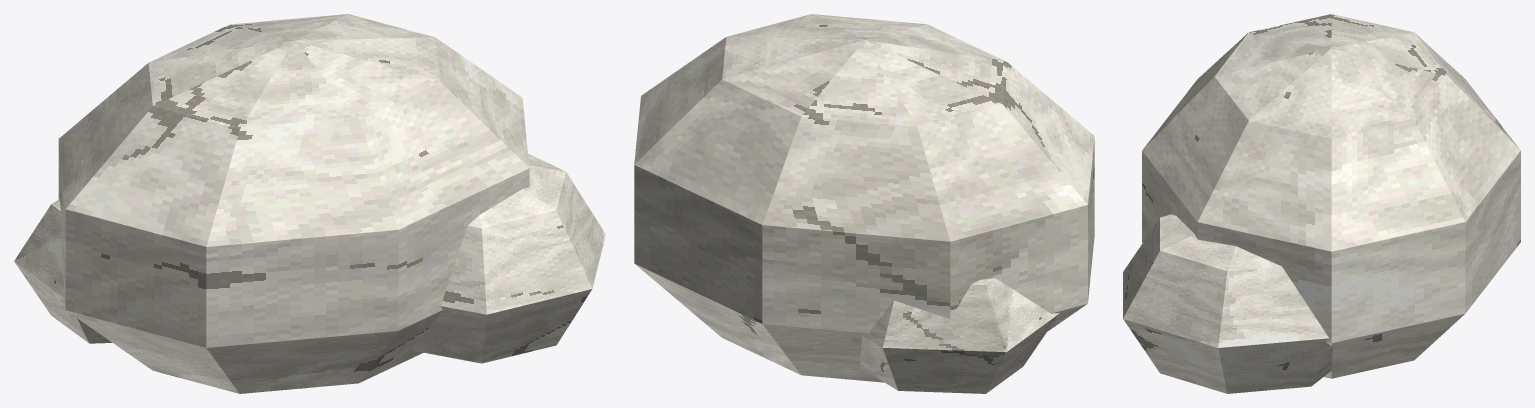
Rendered from cal.glb.
3 views of the same model, side by side, from view 1: azimuth 30°, elevation 25°; view 2: azimuth 150°, elevation 25°; view 3: azimuth 270°, elevation 25° (orthographic). The views are drawn at different scales.
Parts seen in each view (by area): view 1: cal; view 2: cal; view 3: cal.
Boxes of the visible parts, x1=… form: cal: x1=14, y1=14, x2=605, y2=393; cal: x1=634, y1=14, x2=1094, y2=393; cal: x1=1123, y1=14, x2=1520, y2=393.
Size of the model in its own units: 1.04 by 0.6817 by 0.8295.
1 material, 1 textured.
